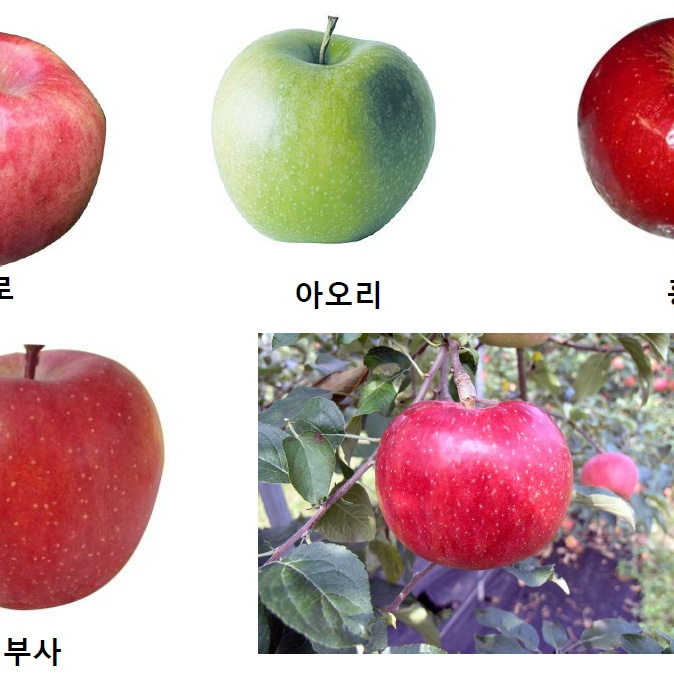apple: (207, 28, 434, 245), (1, 344, 166, 603), (379, 399, 576, 567), (1, 27, 108, 261), (576, 11, 674, 240)
